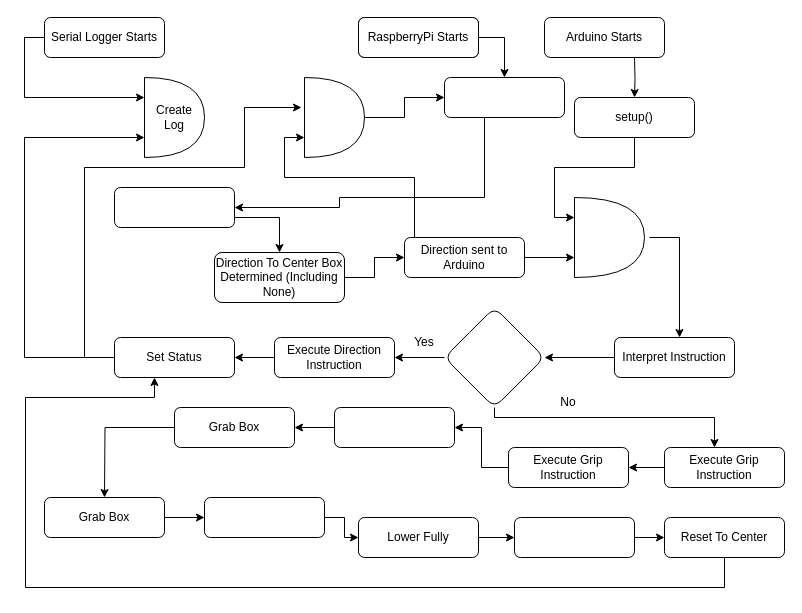
Some shapes in this 802 by 613 pixel diagram are drawn without their labels. The centre of each missing label's shape, as x and y in pixels:
"Closest Box Determined" belongs at pixel 174 207.
"Drop Box" belongs at pixel 574 537.
"Find Corner" belongs at pixel 264 517.
"Instruction != 'Grip'" belongs at pixel 494 357.
"Lower To Box" belongs at pixel 394 427.
"Receive Instruction" belongs at pixel 609 237.
"Request Status" belongs at pixel 334 117.
"Scan for Boxes" belongs at pixel 504 97.
